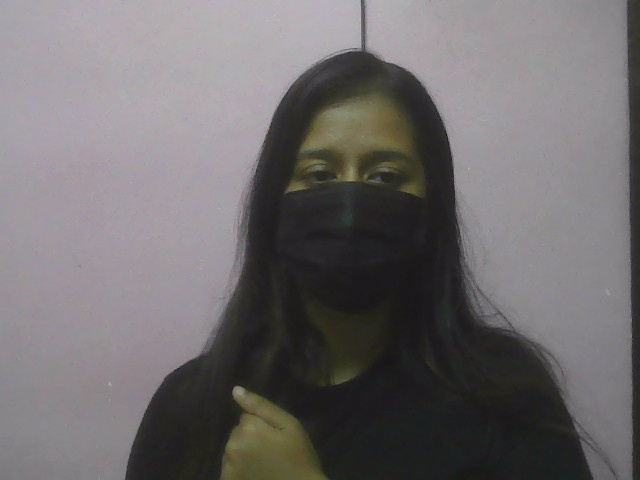Sorry: (201, 368, 343, 479)
